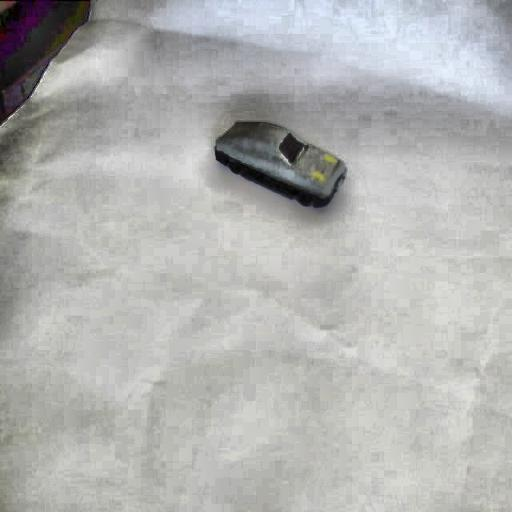normal_car: (210, 114, 347, 212)
